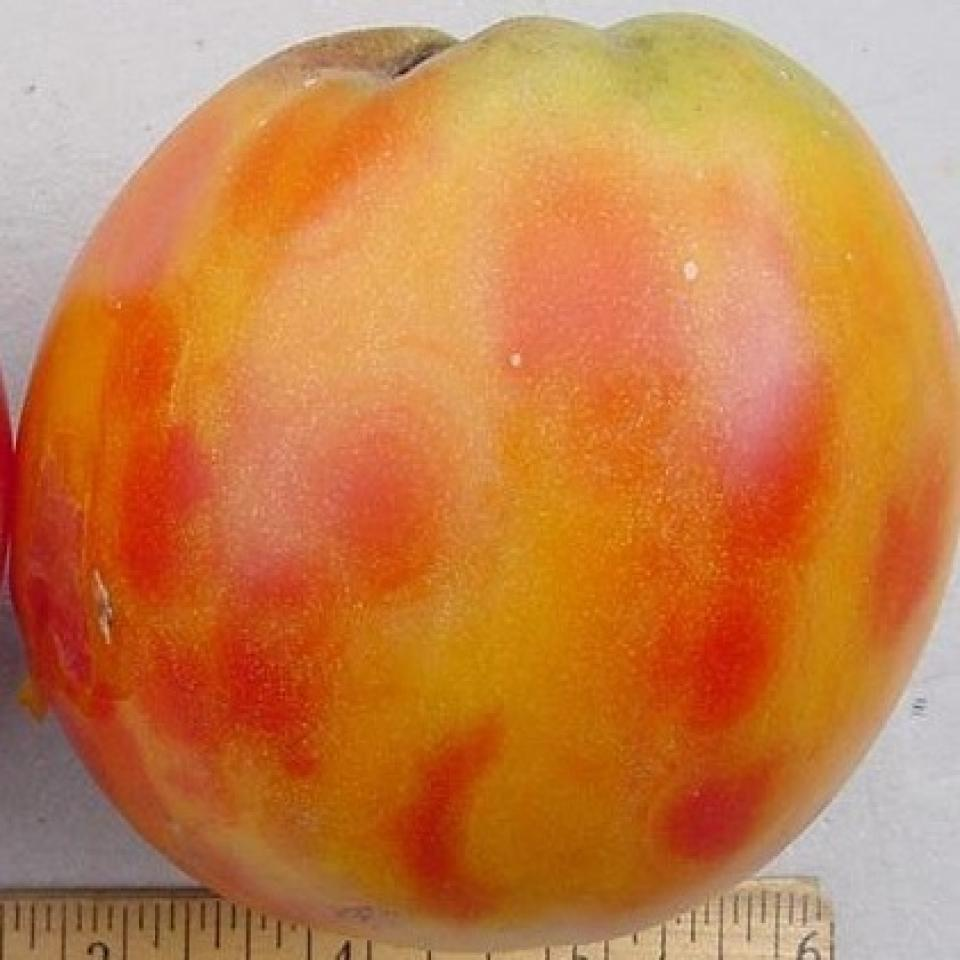Spotted wilt Virus: (23, 19, 960, 941)
